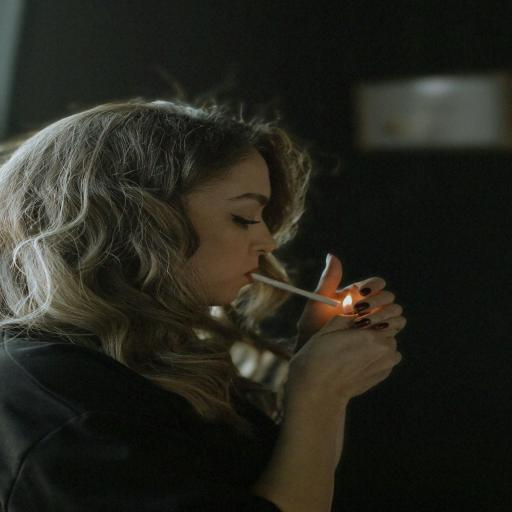terdeteksi merokok: (218, 180, 394, 350)
